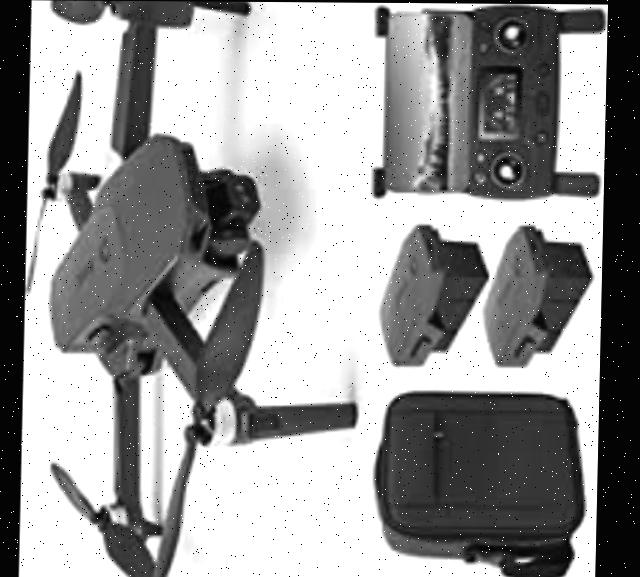drone: (21, 0, 371, 577)
